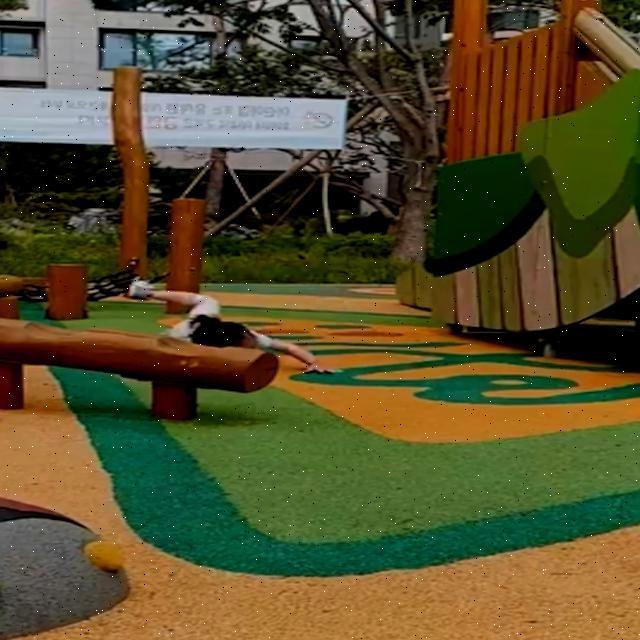child: (126, 279, 340, 376)
